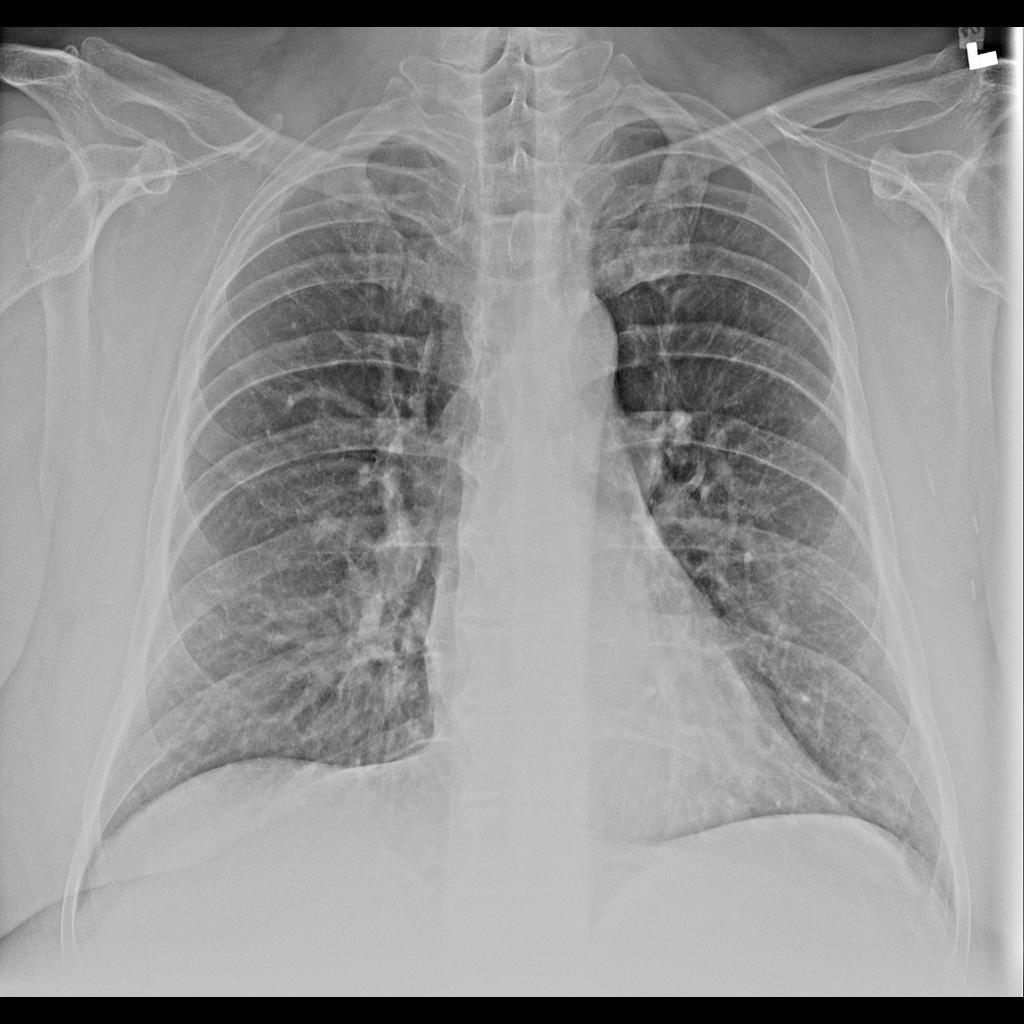Nodule: (281, 604, 361, 683), (305, 506, 353, 552)
